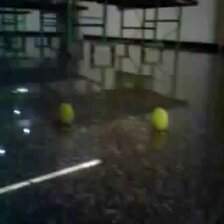tennis: (151, 106, 170, 131), (58, 103, 76, 124)
